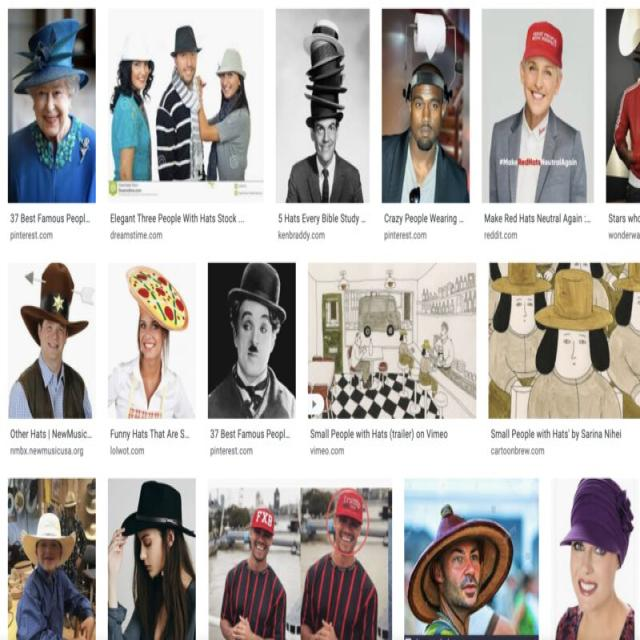cap: (521, 24, 564, 113)
hat: (16, 19, 87, 137), (226, 264, 288, 380), (21, 263, 90, 366), (118, 483, 195, 575), (22, 516, 79, 570), (118, 36, 155, 95), (170, 24, 204, 85), (216, 48, 247, 102)
